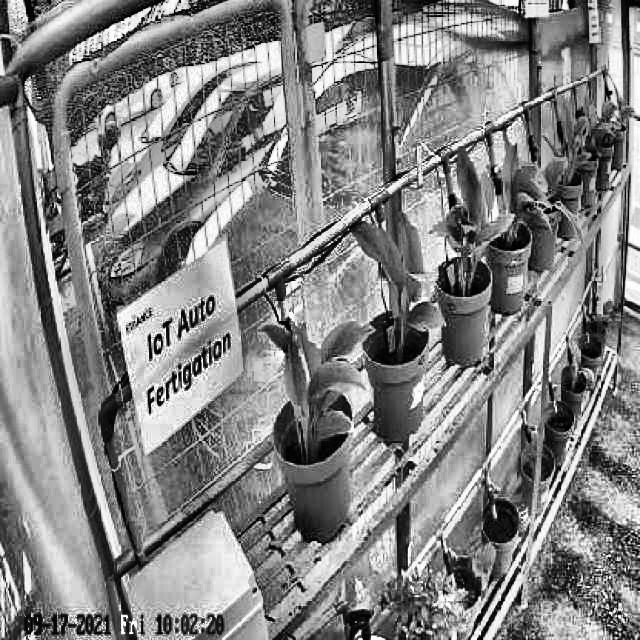plants: (260, 314, 371, 468), (350, 212, 446, 361), (429, 148, 514, 298), (493, 147, 589, 255)
